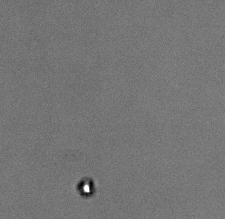Living Cell: (78, 177, 94, 197)
